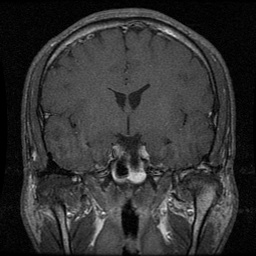pituitary: (108, 142, 149, 184)
